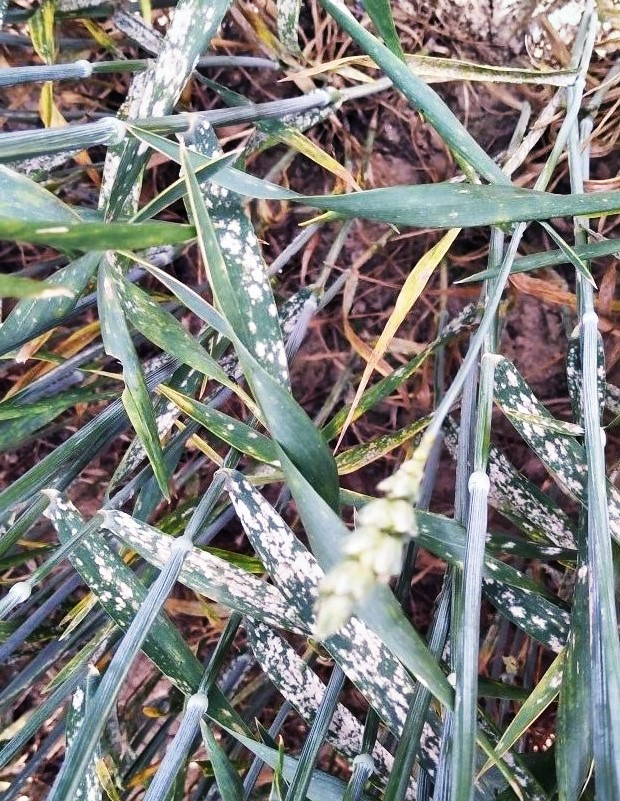Powdery Mildew: (167, 500, 413, 749)
